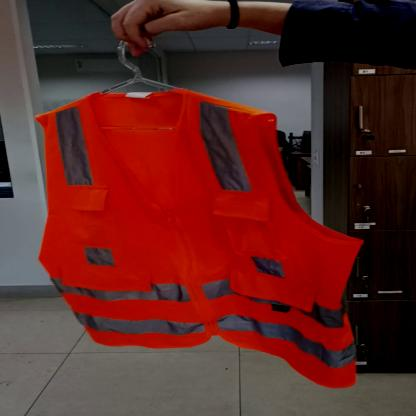colete: (23, 89, 369, 390)
